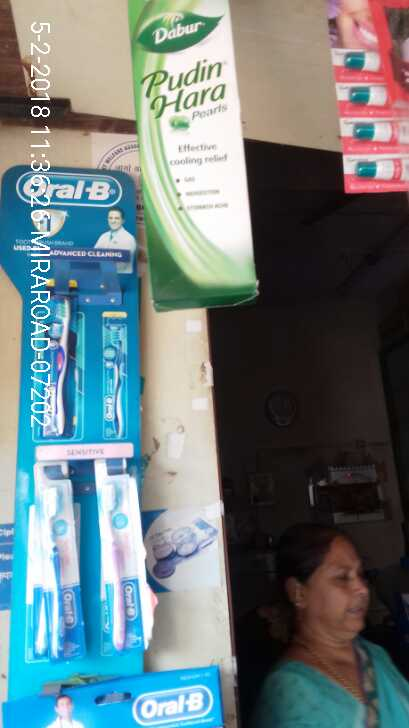oralb: (40, 278, 82, 434)
